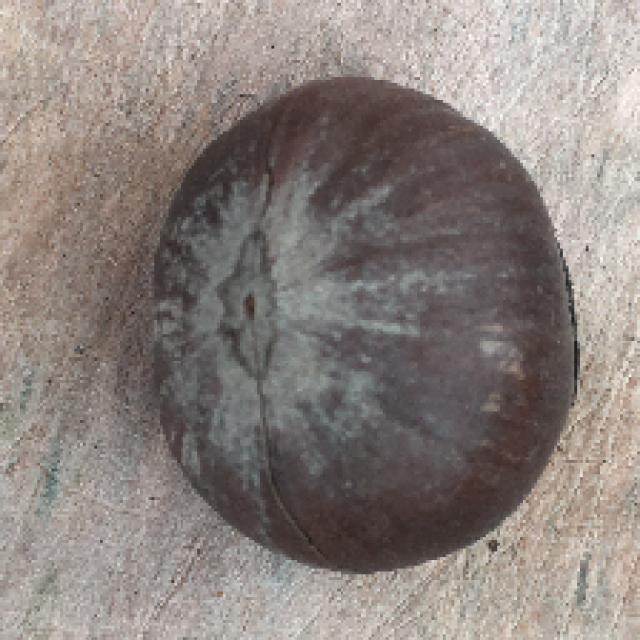DamagedHazelnut: (148, 71, 582, 574)
